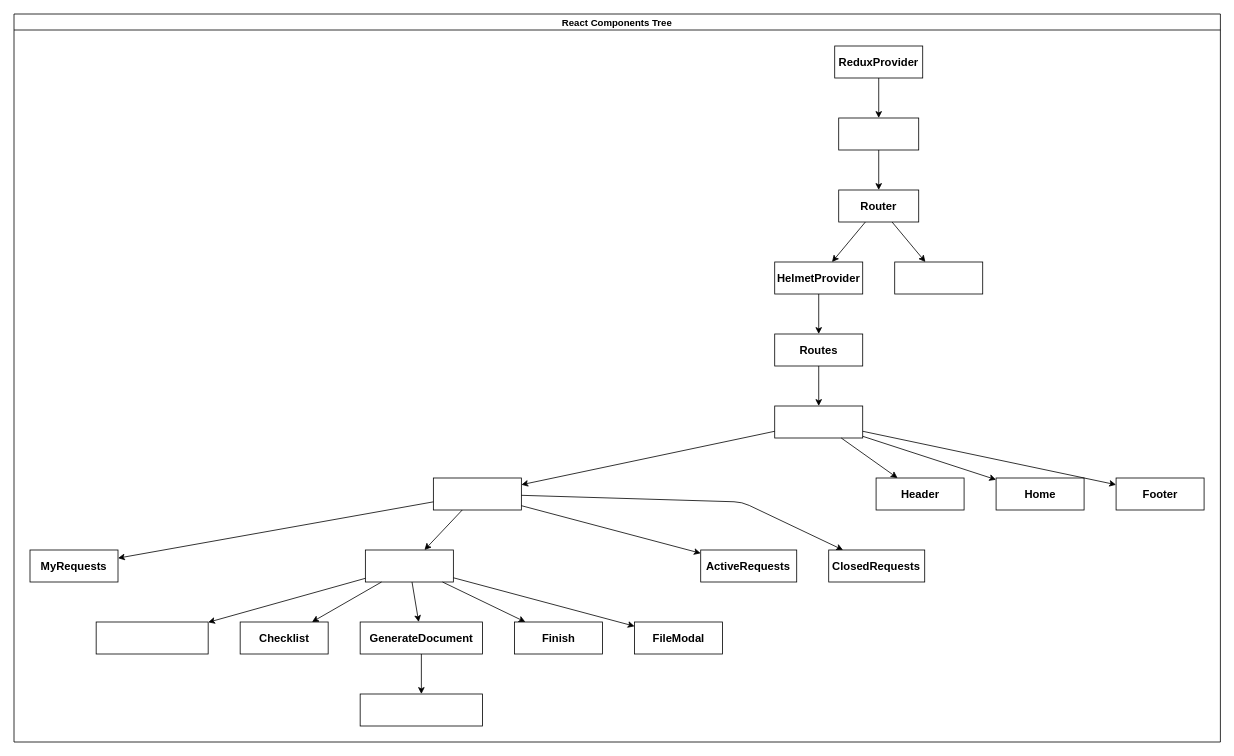
Some shapes in this 1234 by 756 pixel diagram are drawn without their labels. The shapes that lost their labels are listed below. From the top down, each one's centre as x and y in pixels, then its label:
point (878, 133): App
point (938, 277): ToastContainer
point (818, 421): MainLayout
point (477, 493): SideNav
point (409, 565): NewPSA
point (151, 637): BasicInformation
point (421, 709): AttachmentModal
